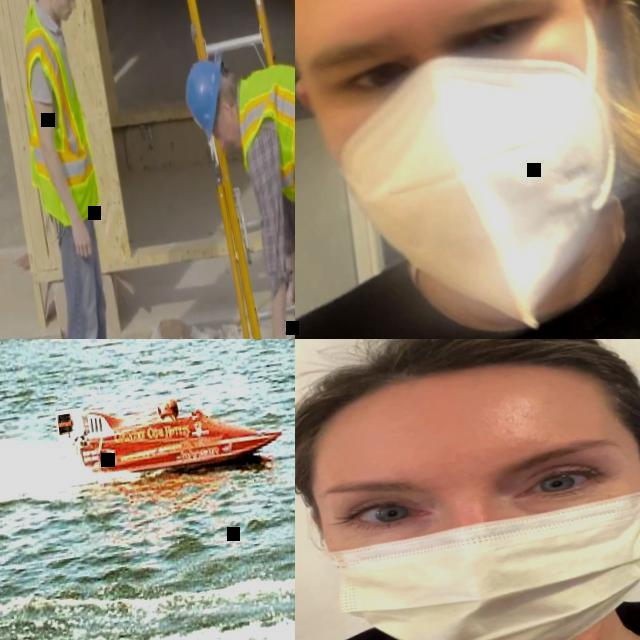helmet: (178, 51, 236, 150), (162, 399, 182, 417)
mask: (323, 31, 640, 339), (308, 463, 640, 640)
no_helmet: (295, 339, 640, 469)
no_mask: (222, 111, 242, 151), (54, 2, 74, 29)
no_vest: (295, 156, 640, 339)
person: (295, 0, 640, 339), (295, 339, 640, 640), (0, 0, 141, 339), (180, 28, 295, 339), (162, 400, 182, 424)
vest: (3, 0, 104, 232), (230, 55, 295, 202)
